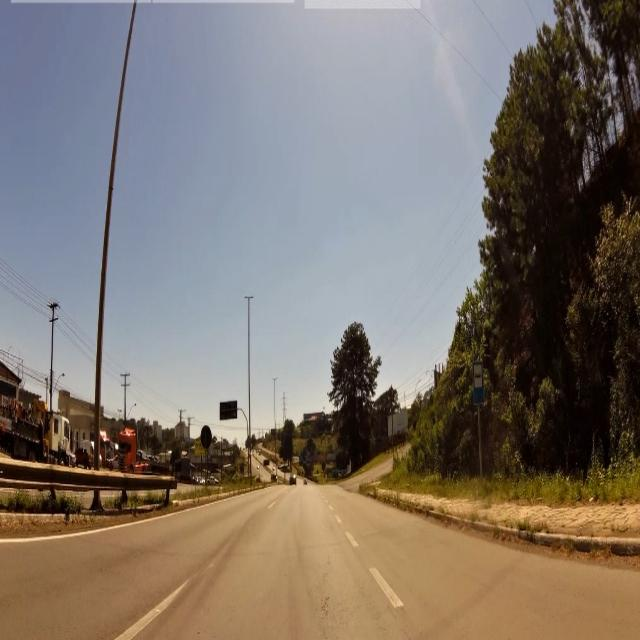S-14: (474, 363, 484, 405)
